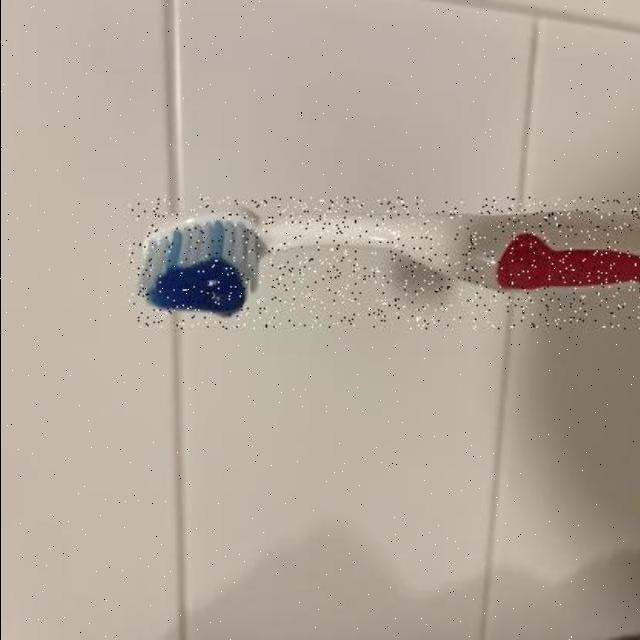toothbrush: (128, 197, 640, 329)
